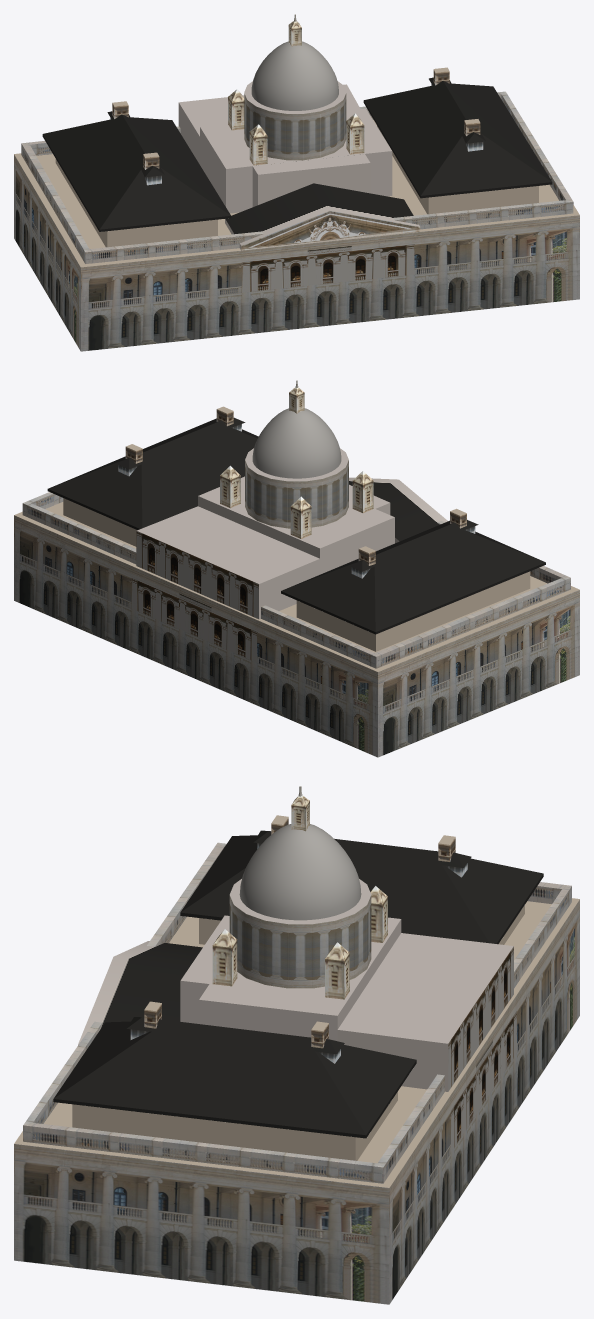
Rendered from building.glb.
3 views of the same model, one above another, from view 1: azimuth 30°, elevation 25°; view 2: azimuth 150°, elevation 25°; view 3: azimuth 270°, elevation 25° (orthographic). The views are drawn at different scales.
Visible parts, largest first — view 1: B345831577701063A0; view 2: B345831577701063A0; view 3: B345831577701063A0.
Boxes of the visible parts, x1,y1,x2,y2 form: B345831577701063A0: [14, 14, 579, 351]; B345831577701063A0: [14, 380, 579, 757]; B345831577701063A0: [14, 786, 579, 1304].
Bounding box in the file's own units: 77.94 × 38.27 × 55.87.
1 material, 1 textured.
